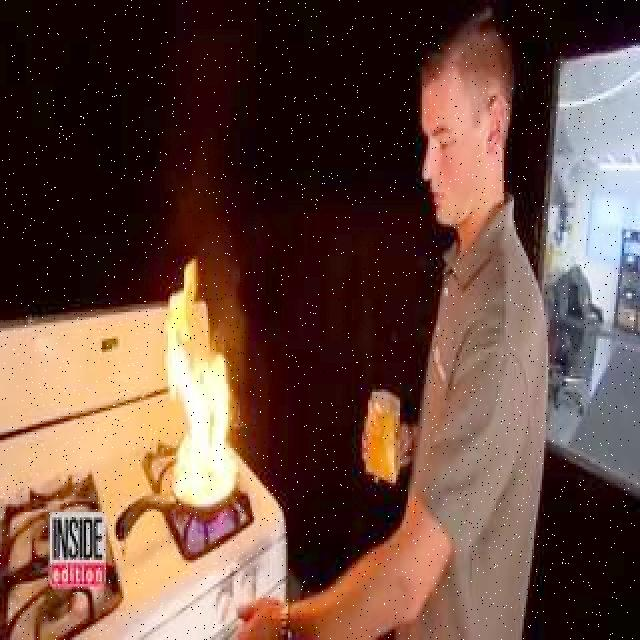fire: (160, 274, 241, 502)
